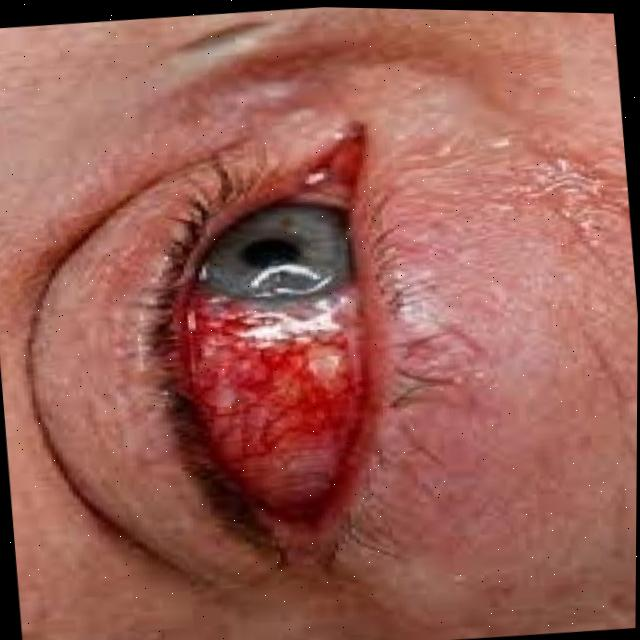Rosacea: (135, 106, 429, 583)
